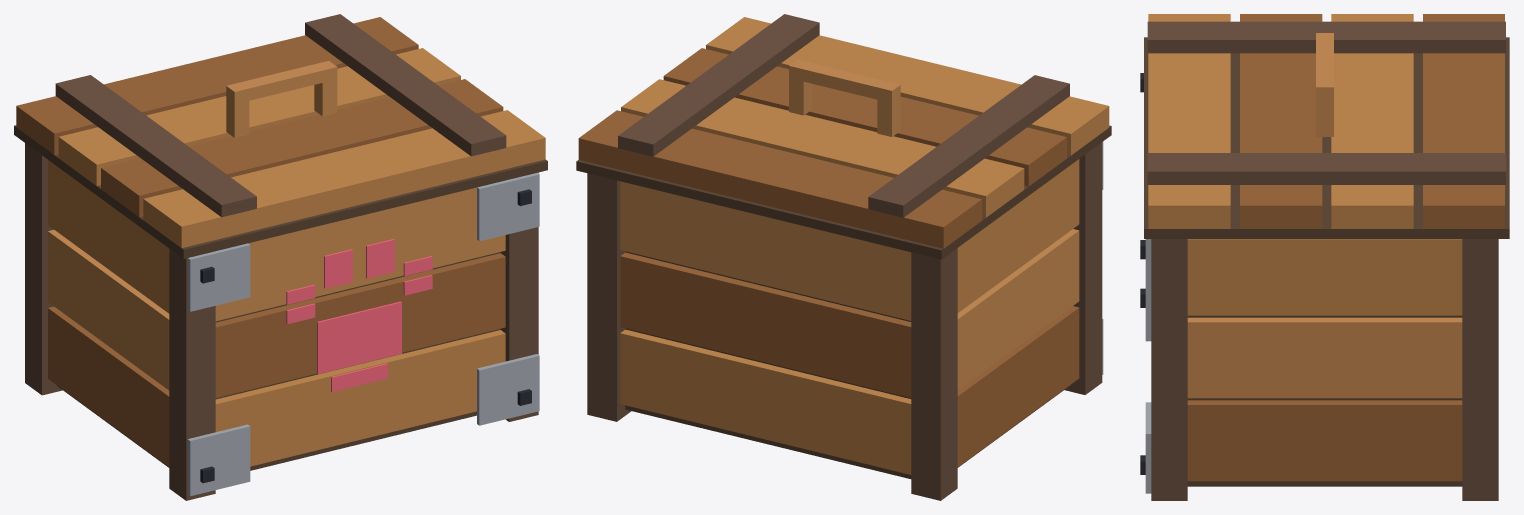
Rendered from CatCafe_Prop_Crate_Alley.glb.
The picture shows the model from 3 angles, left to right: view 1: azimuth 30°, elevation 25°; view 2: azimuth 150°, elevation 25°; view 3: azimuth 270°, elevation 25°; orthographic projection. The views are drawn at different scales.
Parts seen in each view (by area): view 1: CatCafe_Prop_Crate_Alley, CatCafe_Prop_Crate_Alley_Lid; view 2: CatCafe_Prop_Crate_Alley, CatCafe_Prop_Crate_Alley_Lid; view 3: CatCafe_Prop_Crate_Alley, CatCafe_Prop_Crate_Alley_Lid.
Boxes of the visible parts, x1,y1,x2,y2 form: CatCafe_Prop_Crate_Alley: [25, 143, 539, 500]; CatCafe_Prop_Crate_Alley_Lid: [14, 14, 547, 258]; CatCafe_Prop_Crate_Alley: [587, 141, 1103, 500]; CatCafe_Prop_Crate_Alley_Lid: [576, 14, 1111, 259]; CatCafe_Prop_Crate_Alley: [1140, 73, 1498, 500]; CatCafe_Prop_Crate_Alley_Lid: [1144, 14, 1509, 238].
Bounding box in the file's own units: 2.48 × 2.1 × 2.02.
Materials: 1 (1 with a texture image).
